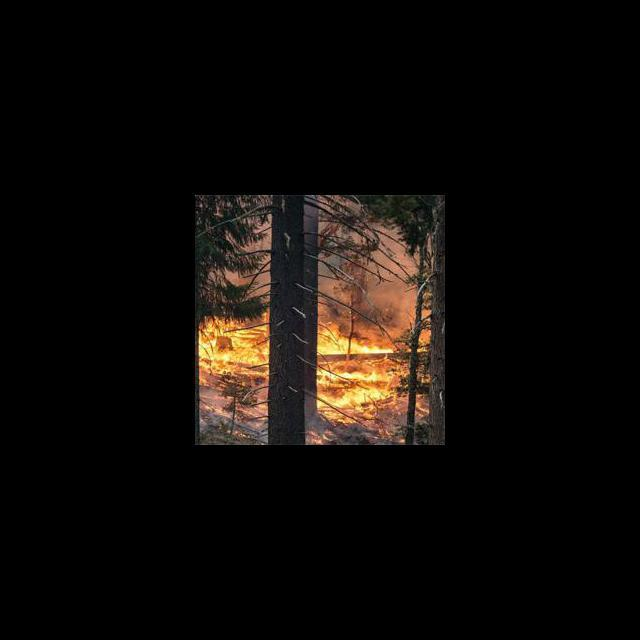Fire: (199, 314, 268, 390), (317, 360, 398, 420), (317, 323, 394, 354)
